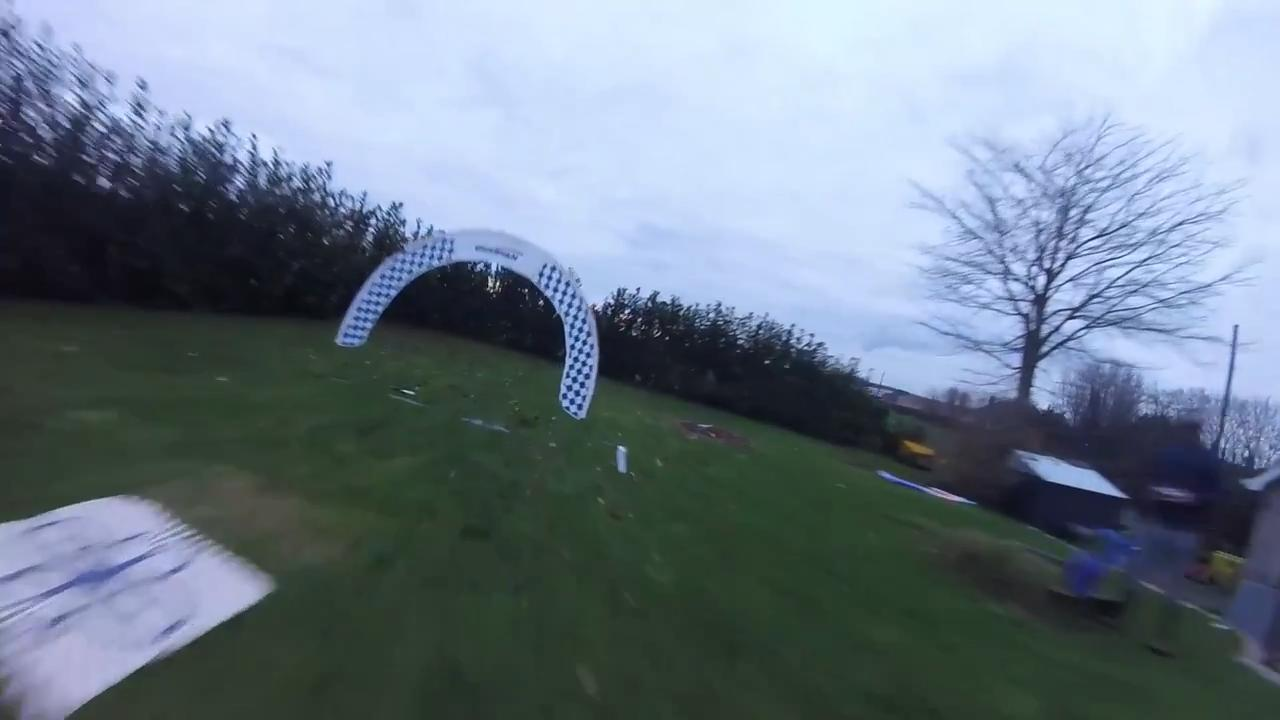gate: (340, 227, 599, 419)
